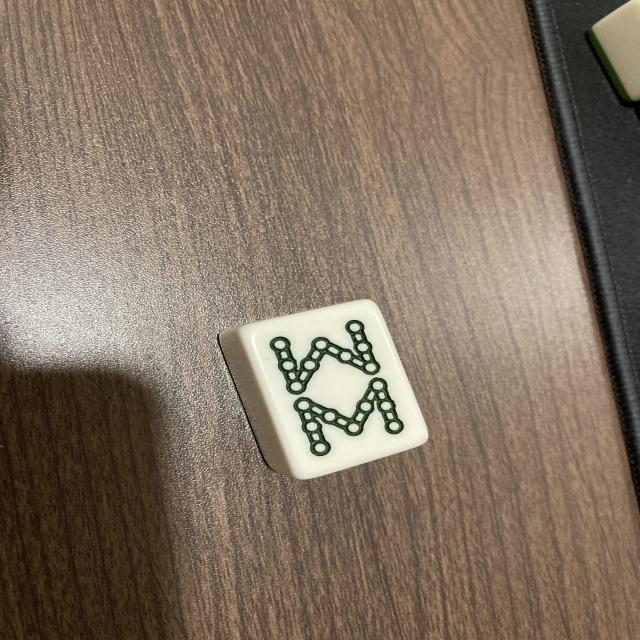s8: (248, 301, 430, 476)
